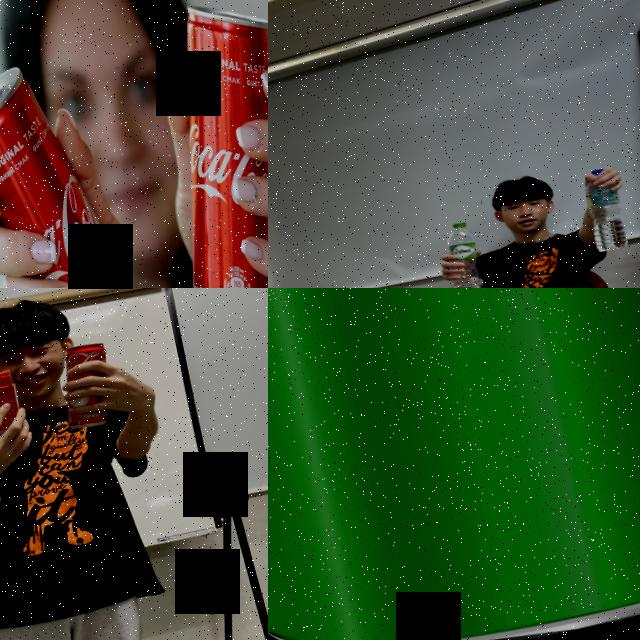bottle: (578, 164, 631, 254), (433, 217, 489, 288)
can: (268, 288, 640, 640), (132, 0, 268, 288), (0, 49, 161, 288), (52, 340, 122, 432)
